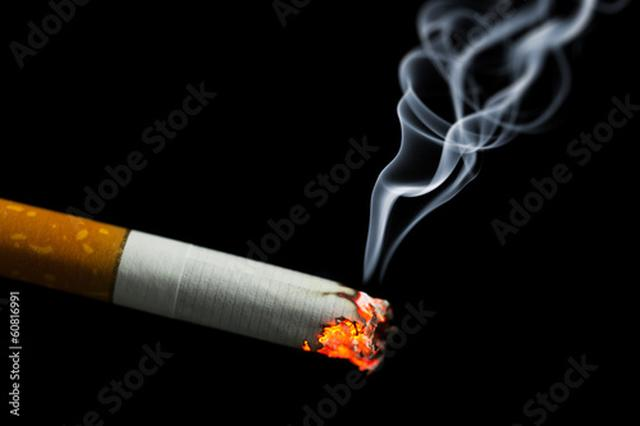Cigarette: (0, 183, 394, 375)
